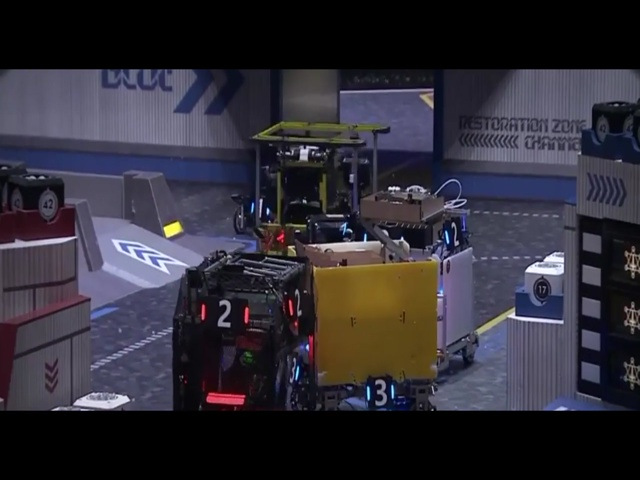bluePlate: (365, 376, 397, 410), (441, 218, 465, 251), (247, 194, 274, 221), (285, 352, 302, 385)
redPlate: (197, 296, 250, 334), (285, 285, 306, 319)
